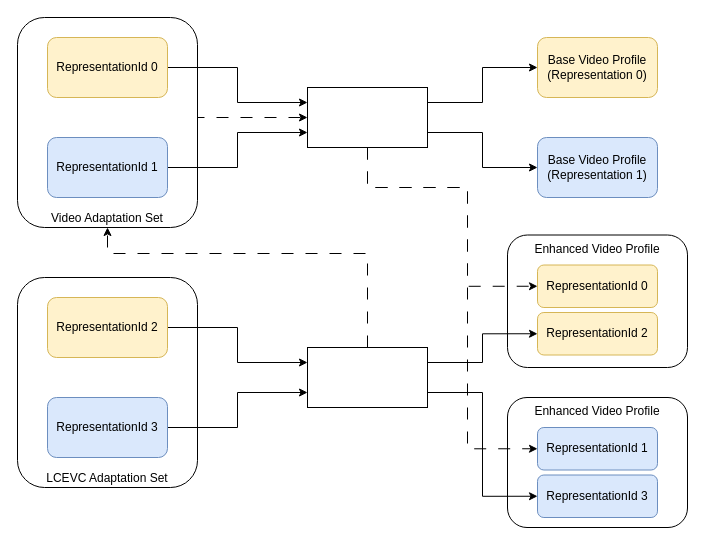
Image size: 705x545. Some labels were removed from this diagram. The centre of each missing label's shape, as x and y in pixels:
"Check Dependency Compatibility" belongs at pixel 367 377.
"Check MSE Compatibility" belongs at pixel 367 117.
